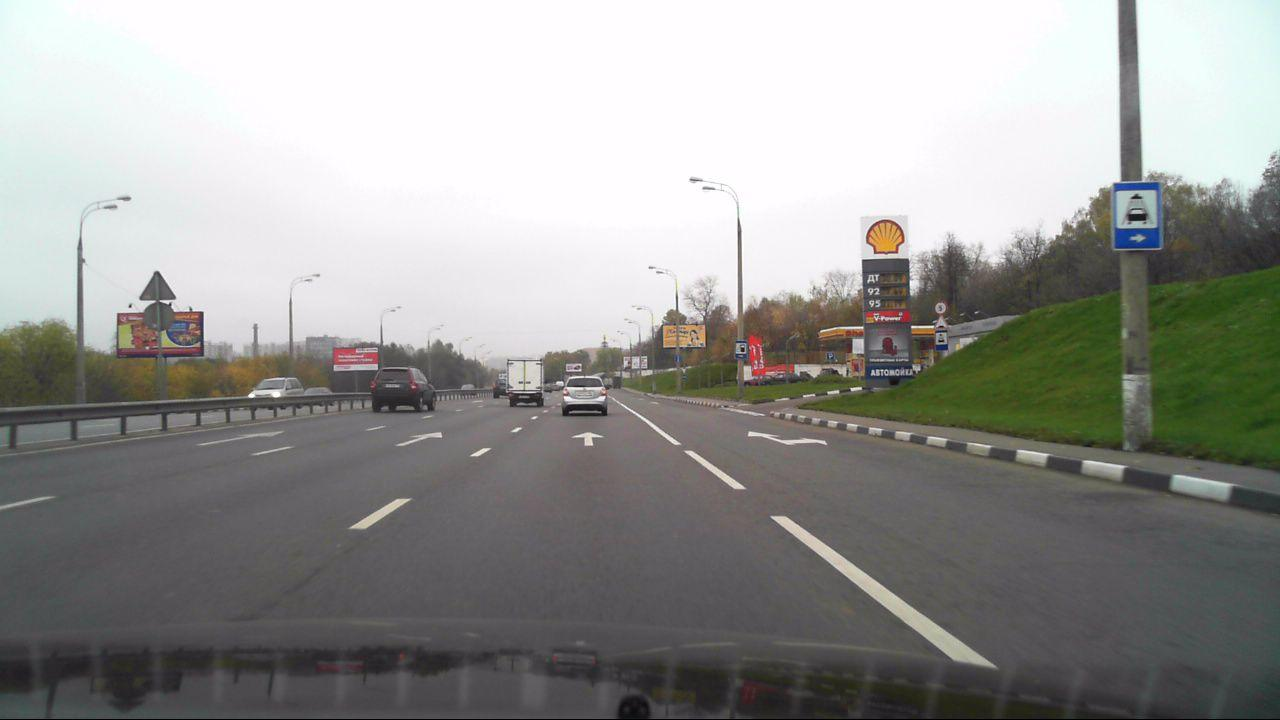7_5: (1109, 182, 1164, 252)
